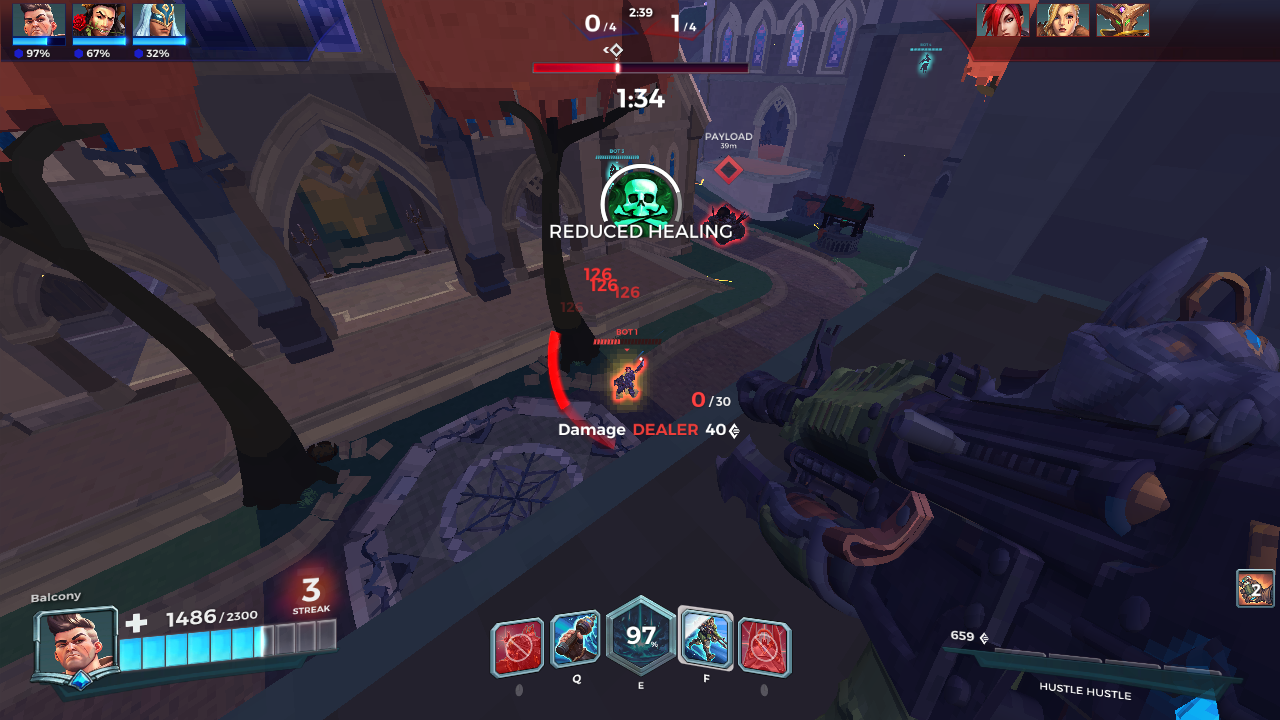model: (606, 356, 646, 413)
